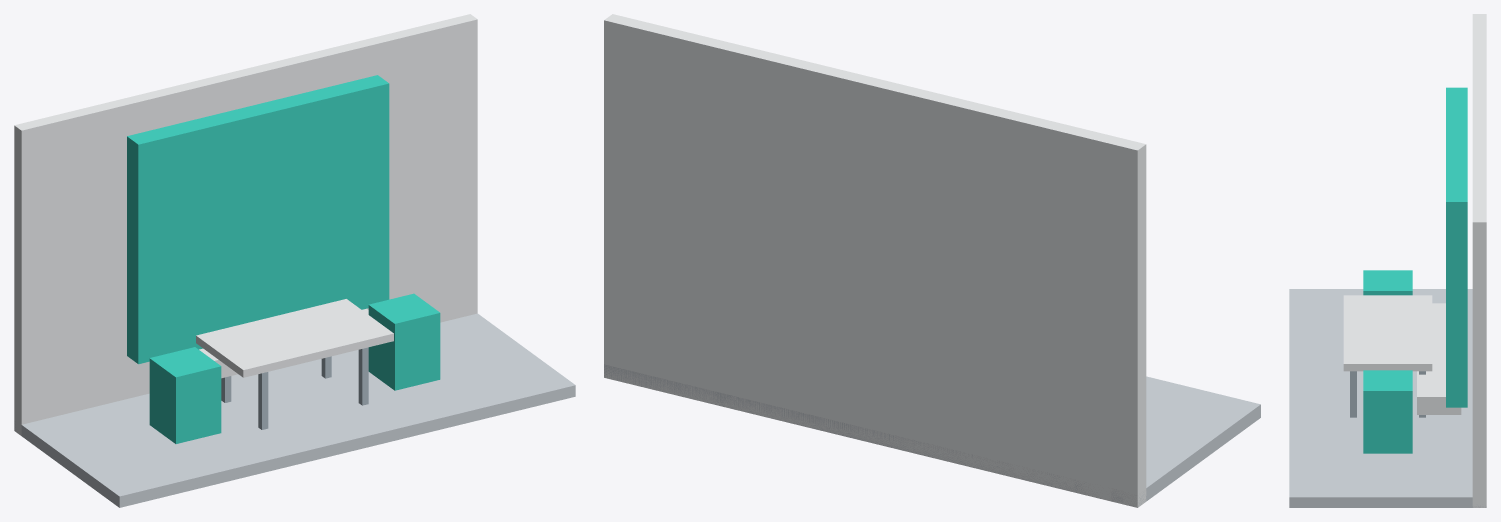
3 views of the same model, side by side, from view 1: azimuth 30°, elevation 25°; view 2: azimuth 150°, elevation 25°; view 3: azimuth 270°, elevation 25° (orthographic). The views are drawn at different scales.
Parts seen in each view (by area): view 1: Exhibition Booth Concept; view 2: Exhibition Booth Concept; view 3: Exhibition Booth Concept.
Boxes of the visible parts, bbox=[...] form: Exhibition Booth Concept: bbox=[14, 14, 575, 507]; Exhibition Booth Concept: bbox=[604, 14, 1260, 507]; Exhibition Booth Concept: bbox=[1289, 14, 1486, 507].
Size of the model in its own units: 5 by 3.2 by 2.
